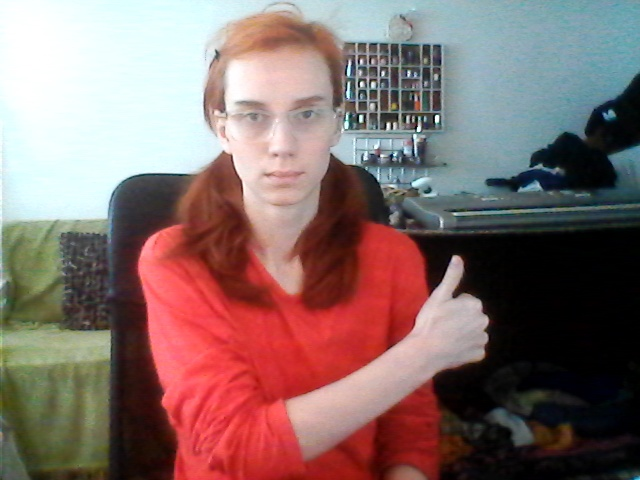jeden: (407, 251, 494, 379)
